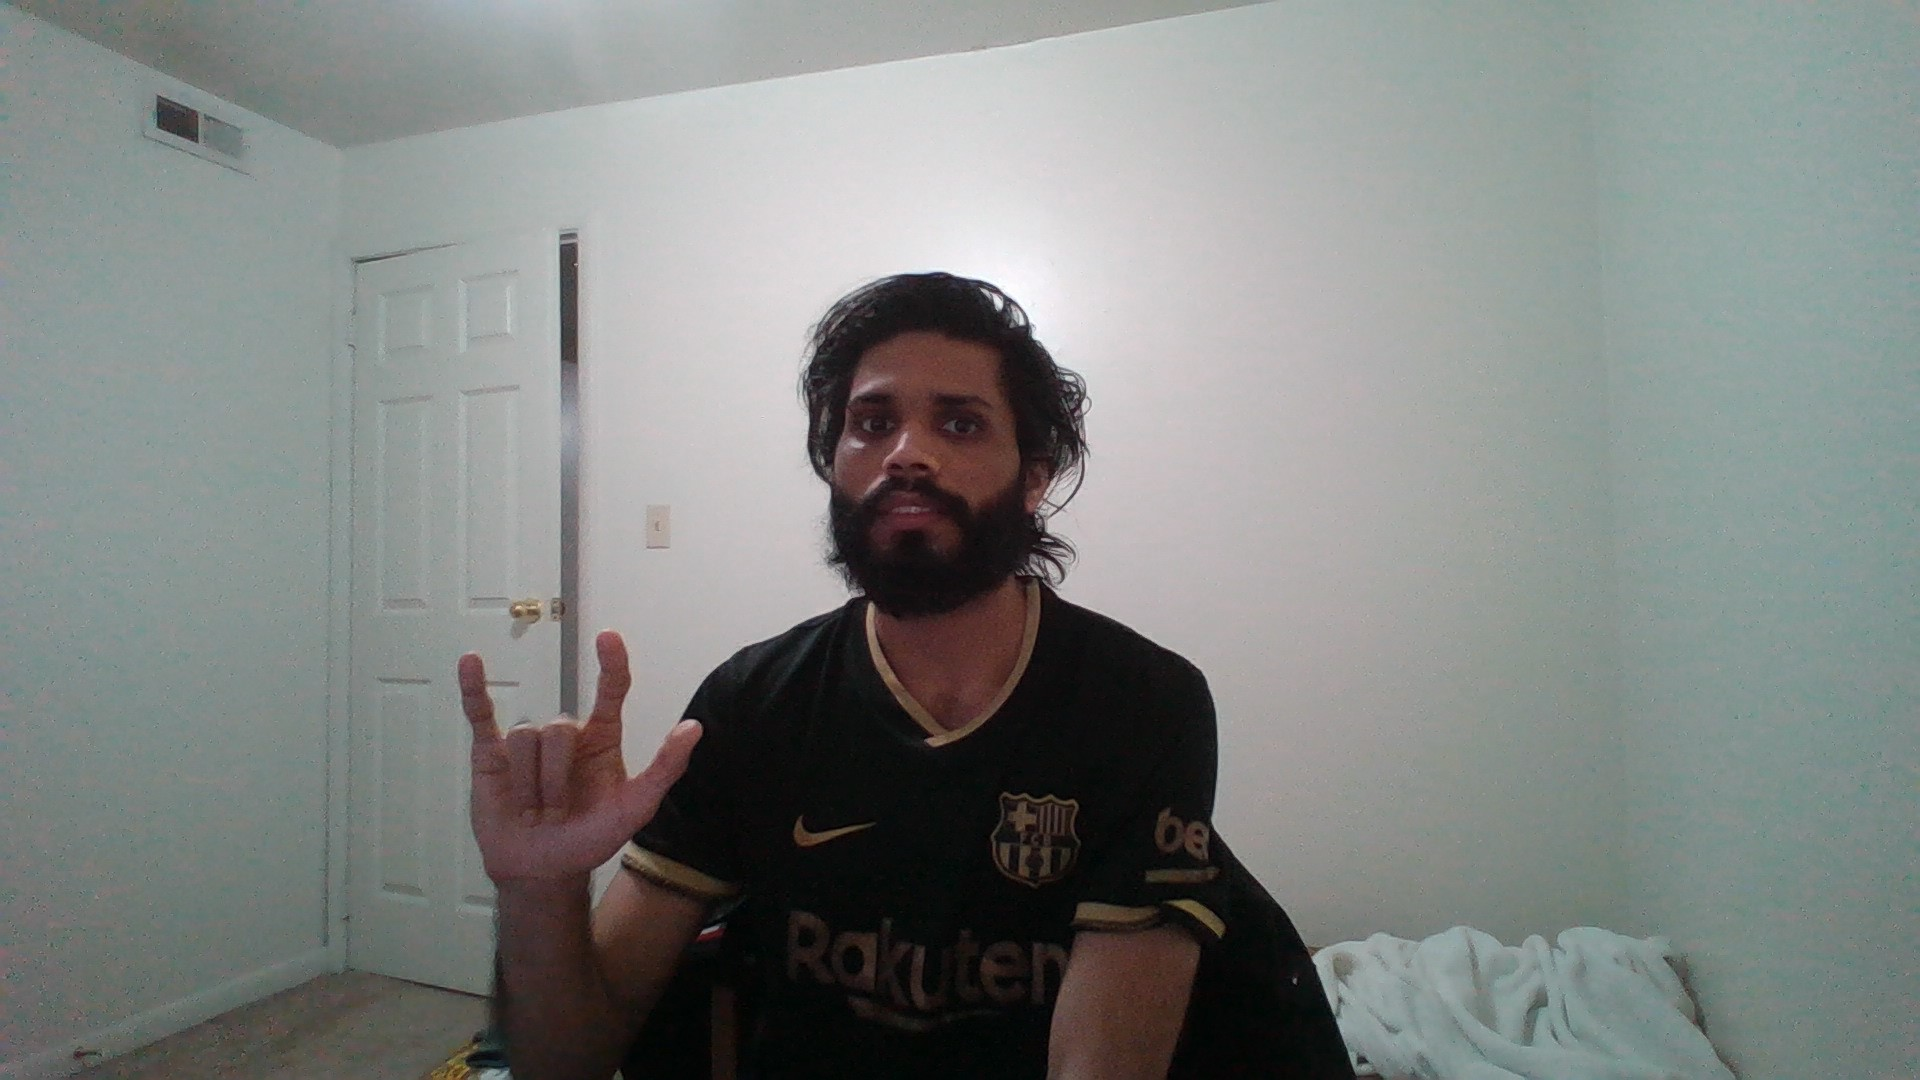IloveYou: (397, 616, 719, 916)
